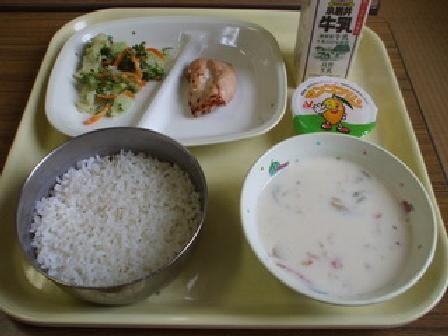Cup desserts: (293, 72, 380, 144)
Meat: (169, 51, 255, 120)
Milk: (290, 0, 371, 80)
Rice: (12, 132, 197, 292)
Salad: (64, 23, 170, 111)
soup-plain: (249, 140, 431, 295)
